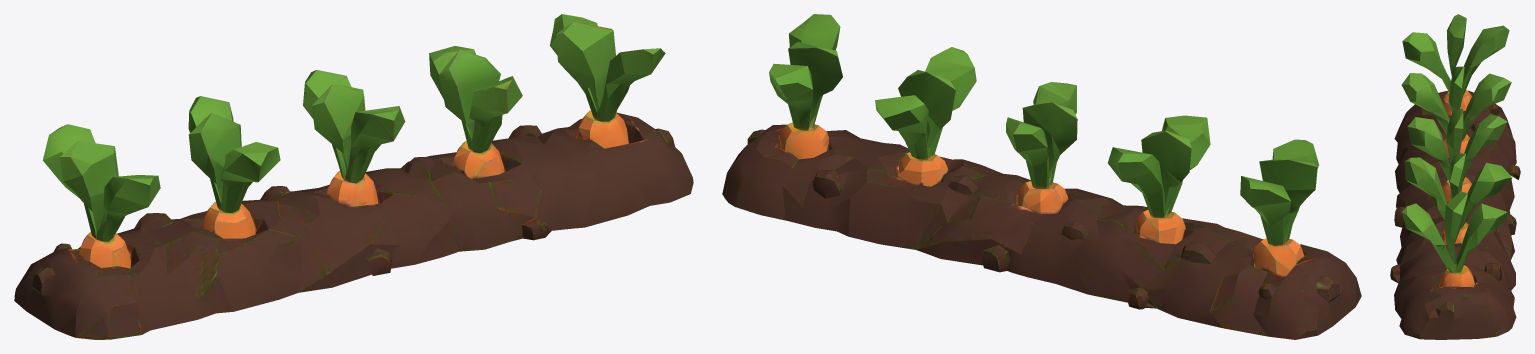
Rendered from crop-carrot.glb.
3 views of the same model, side by side, from view 1: azimuth 30°, elevation 25°; view 2: azimuth 150°, elevation 25°; view 3: azimuth 270°, elevation 25° (orthographic). The views are drawn at different scales.
Parts seen in each view (by area): view 1: crop-carrot-fit; view 2: crop-carrot-fit; view 3: crop-carrot-fit.
Boxes of the visible parts, <box> form: crop-carrot-fit: <box>14,14,693,339</box>; crop-carrot-fit: <box>722,14,1361,339</box>; crop-carrot-fit: <box>1390,14,1520,339</box>.
Bounding box in the file's own units: 1.44 × 0.35 × 0.3562.
Materials: 1 (1 with a texture image).
